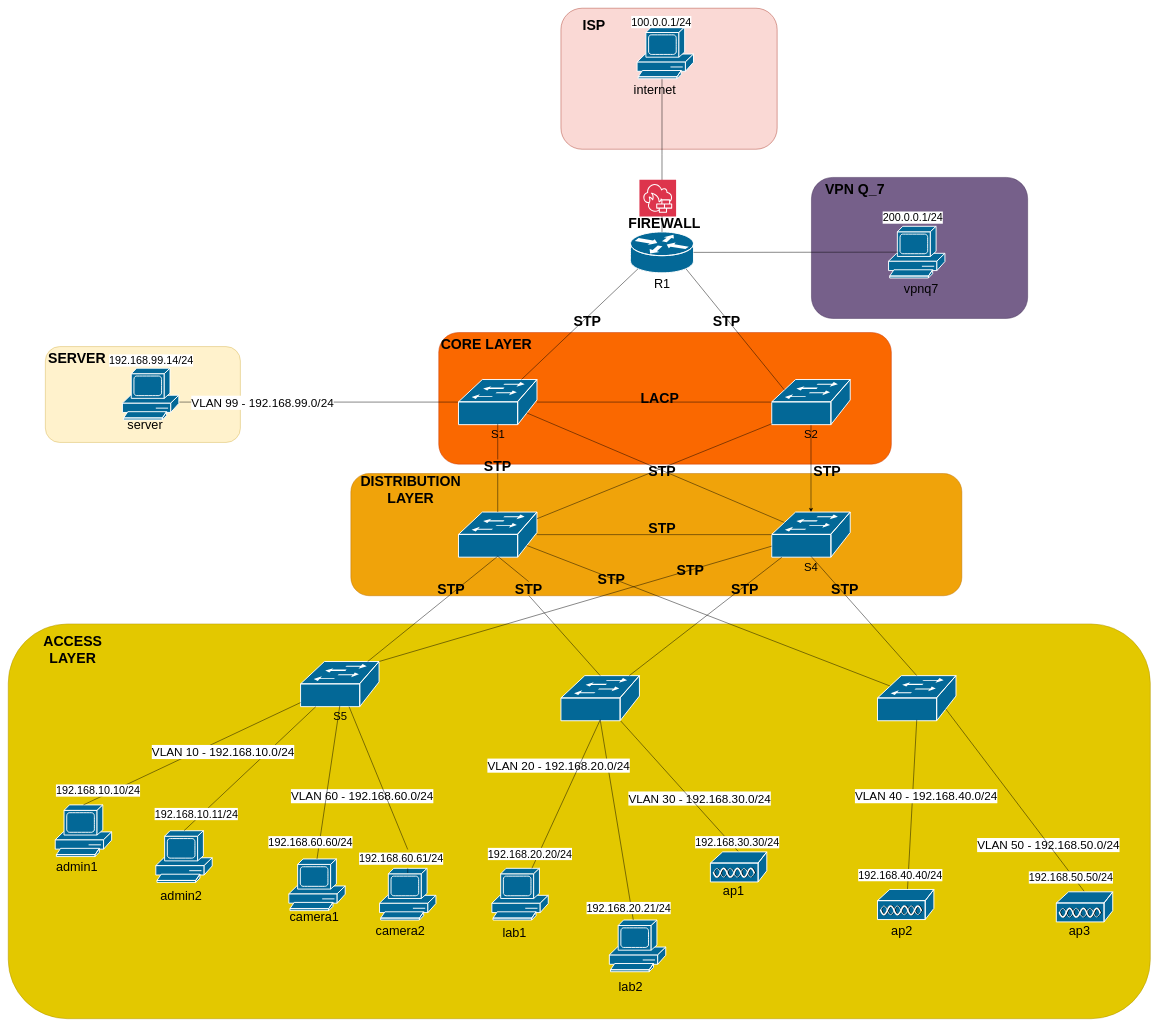
Some shapes in this 1159 by 1027 pixel diagram are drawn without their labels. Each missing label, with the centre of its shape:
S3: the point at 497,534
S6: the point at 600,698
S7: the point at 916,698
